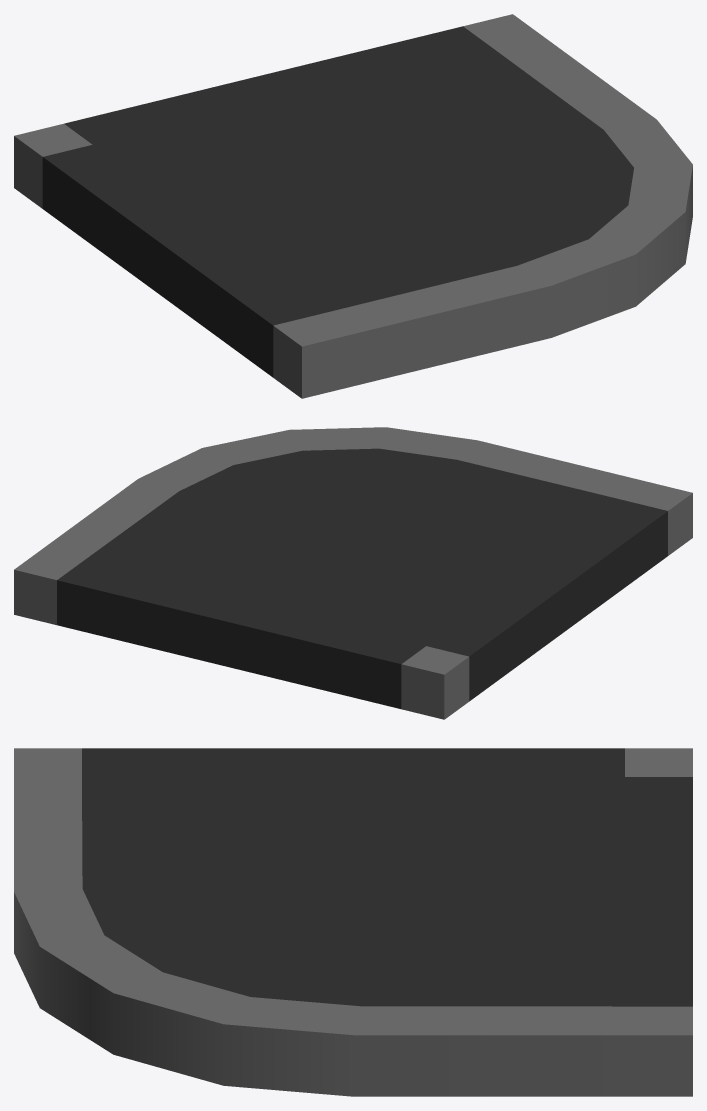
File: road_curve.fbx
3 renders of one model, top to bottom at view 1: azimuth 30°, elevation 25°; view 2: azimuth 150°, elevation 25°; view 3: azimuth 270°, elevation 25°, orthographic. The views are drawn at different scales.
Visible parts, largest first — view 1: road_curve; view 2: road_curve; view 3: road_curve.
Boxes of the visible parts, bbox=[...] form: road_curve: bbox=[14, 14, 692, 398]; road_curve: bbox=[14, 427, 692, 719]; road_curve: bbox=[14, 748, 692, 1096].
Size of the model in its own units: 100 by 10 by 100.
1 material, 1 textured.
